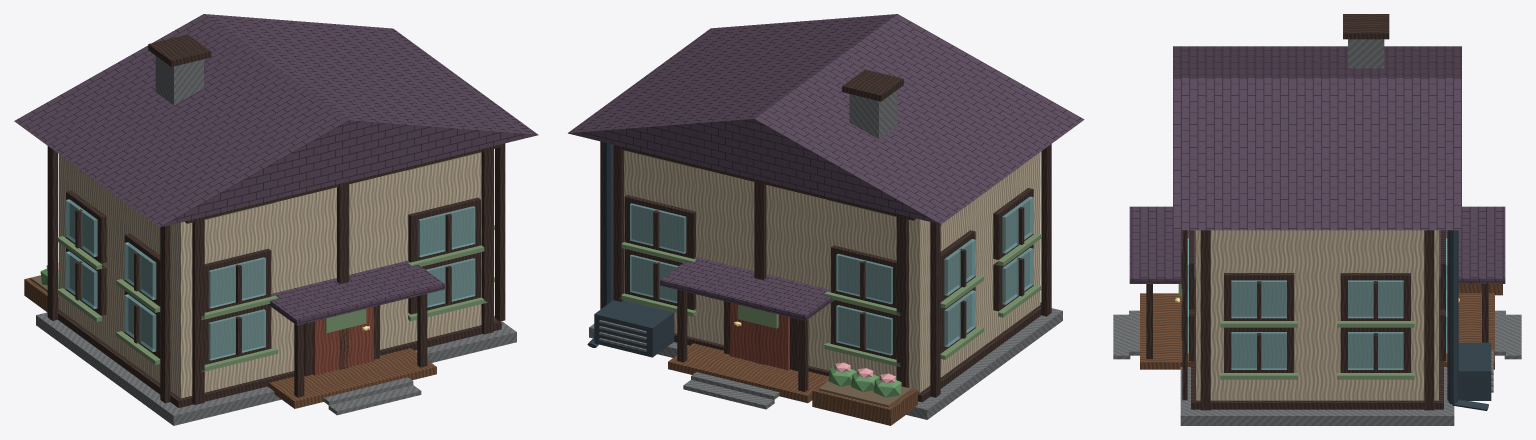
Rendered from house_lv4.glb.
3 views of the same model, side by side, from view 1: azimuth 30°, elevation 25°; view 2: azimuth 150°, elevation 25°; view 3: azimuth 270°, elevation 25° (orthographic).
Parts seen in each view (by area): view 1: gable_roof, walls, foundation, front_porch_canopy, front_deck, front_window_frame.003, floor_trim, front_window_frame.002, front_window_frame, front_door, front_timber, front_timber.002 (+31 smaller); view 2: gable_roof, walls, back_porch_canopy, back_deck, foundation, back_ac_unit, back_window_frame.003, back_window_frame.002, back_door, back_window_frame, back_timber, back_garden_bed (+34 smaller); view 3: gable_roof, walls, foundation, front_porch_canopy, back_porch_canopy, right_window_frame.002, right_window_frame.003, right_window_frame, right_window_frame.001, floor_trim, front_deck, right_window_glass.002 (+24 smaller).
Boxes of the visible parts, x1,y1,x2,y2 form: gable_roof: [14, 14, 538, 227]; walls: [58, 149, 494, 398]; foundation: [36, 312, 516, 425]; front_porch_canopy: [268, 260, 444, 325]; front_deck: [268, 348, 436, 408]; front_window_frame.003: [408, 197, 480, 262]; floor_trim: [58, 306, 501, 407]; front_window_frame.002: [204, 248, 271, 312]; front_window_frame: [204, 304, 271, 364]; front_door: [313, 307, 373, 375]; front_timber: [192, 216, 204, 404]; front_timber.002: [481, 146, 493, 334]; gable_roof: [568, 14, 1084, 224]; walls: [624, 151, 1040, 392]; back_porch_canopy: [660, 257, 834, 320]; back_deck: [668, 343, 828, 403]; foundation: [589, 308, 1062, 419]; back_ac_unit: [594, 300, 674, 357]; back_window_frame.003: [624, 195, 695, 258]; back_window_frame.002: [831, 245, 896, 308]; back_door: [730, 302, 789, 370]; back_window_frame: [831, 300, 896, 359]; back_timber: [896, 214, 908, 387]; back_garden_bed: [812, 379, 917, 425]; gable_roof: [1173, 46, 1461, 230]; walls: [1196, 230, 1438, 400]; foundation: [1180, 367, 1454, 425]; front_porch_canopy: [1129, 206, 1195, 283]; back_porch_canopy: [1439, 206, 1505, 283]; right_window_frame.002: [1224, 273, 1294, 320]; right_window_frame.003: [1340, 273, 1410, 320]; right_window_frame: [1224, 327, 1294, 372]; right_window_frame.001: [1340, 327, 1410, 372]; floor_trim: [1191, 284, 1443, 409]; front_deck: [1140, 293, 1190, 369]; right_window_glass.002: [1231, 280, 1286, 318].
Bounding box in the file's own units: 6.6 × 4.75 × 6.19.
13 materials, 7 textured.
